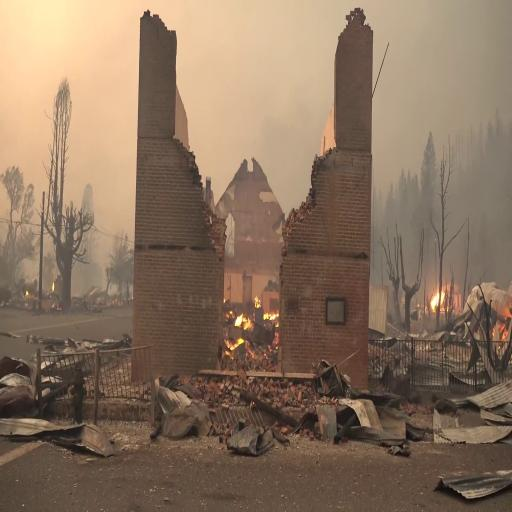smoke: (467, 98, 512, 228)
